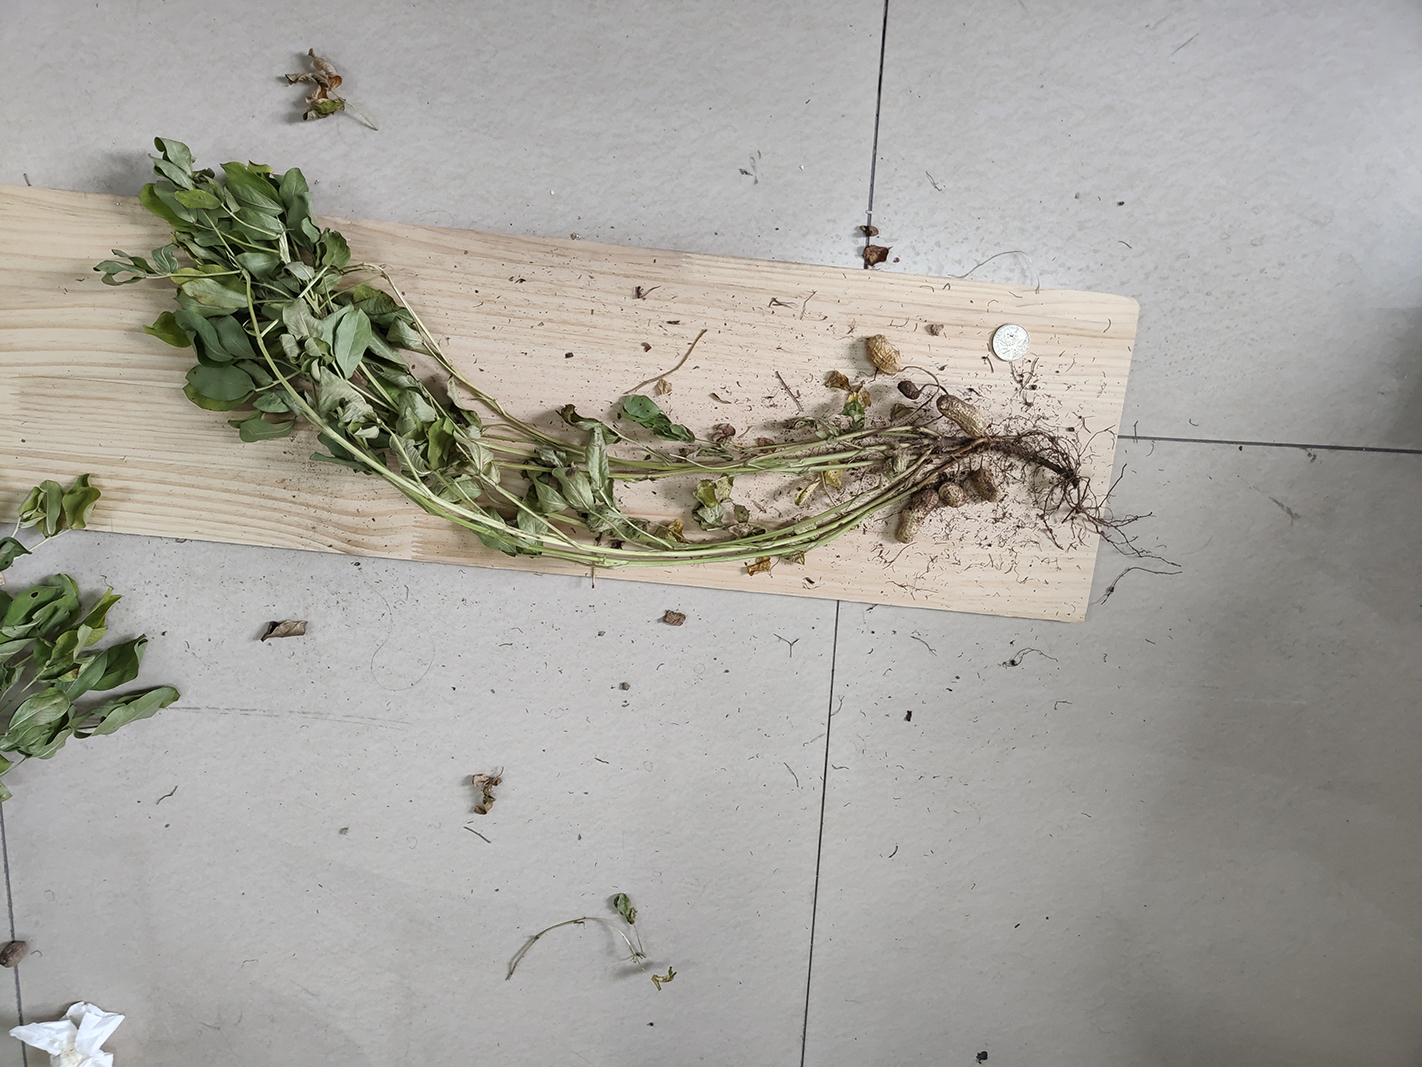h: (895, 488, 939, 542), (937, 395, 986, 436), (867, 334, 901, 375), (938, 482, 966, 507)
l: (974, 468, 1001, 503), (898, 380, 920, 400)
